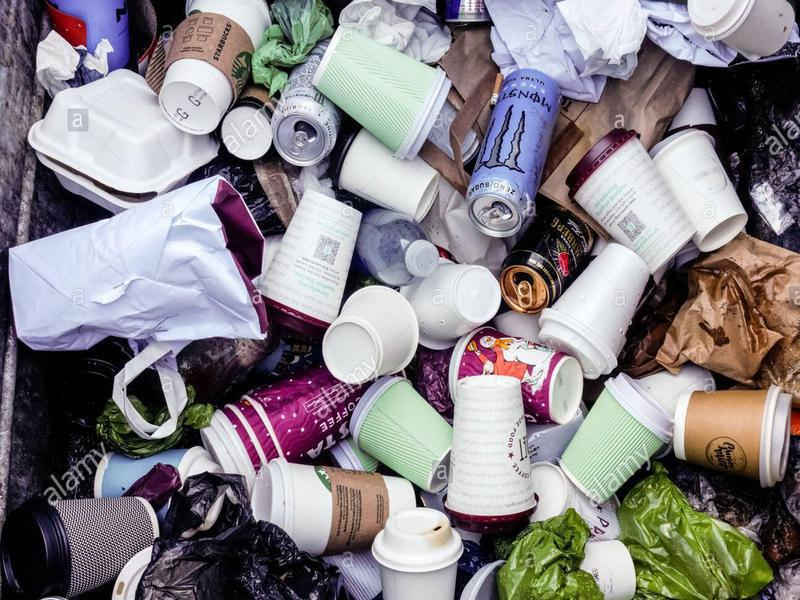can: (465, 68, 563, 241), (498, 209, 592, 314)
cup: (565, 126, 696, 276), (313, 25, 454, 160), (3, 479, 160, 599), (534, 242, 656, 383), (443, 368, 539, 539), (558, 374, 675, 511), (258, 184, 364, 329), (669, 378, 795, 489), (650, 121, 750, 252), (346, 375, 452, 497), (318, 282, 423, 387), (368, 503, 471, 600)
paper: (476, 1, 658, 103)
plastic: (7, 174, 269, 438), (143, 471, 349, 600), (623, 468, 781, 600), (495, 506, 609, 600)
